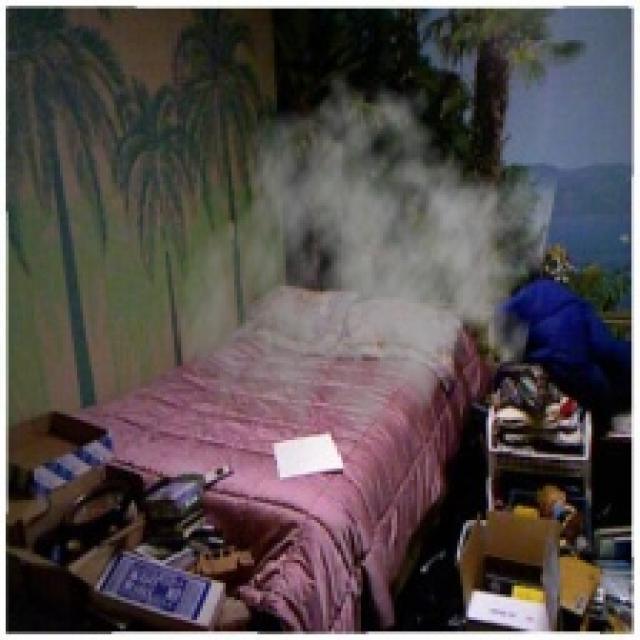Smoke: (175, 66, 560, 477)
